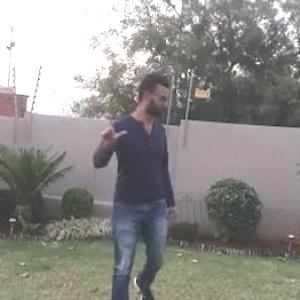land_hand: (98, 110, 130, 149)
